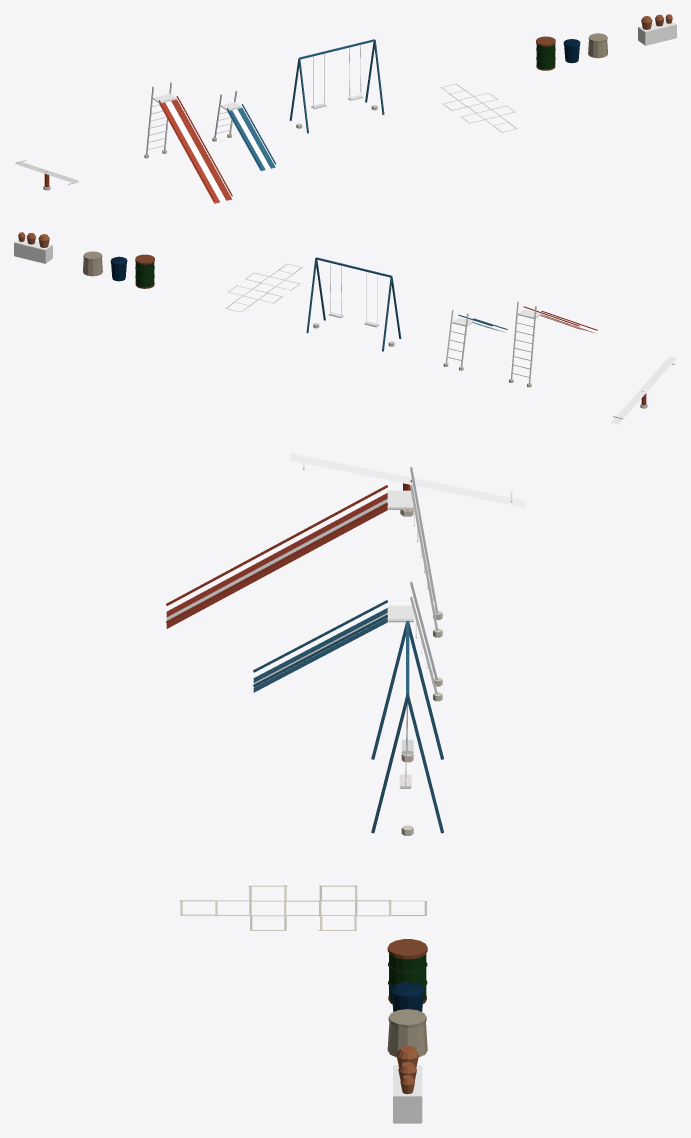
Rendered from school_props.glb.
3 renders of one model, top to bottom at view 1: azimuth 30°, elevation 25°; view 2: azimuth 150°, elevation 25°; view 3: azimuth 270°, elevation 25°, orthographic. The views are drawn at different scales.
Visible parts, largest first — view 1: sl_big_chute1, sl_big_chute2, pot_stand, sl_big_chute0, db_drum, sl_small_chute1, sl_small_chute2, sl_small_chute0, db_concrete; view 2: pot_stand, ss_plank, db_drum, db_concrete; view 3: ss_plank, sl_big_chute0, pot_stand, sl_big_chute2, db_drum, db_concrete.
Boxes of the visible parts, x1,y1,x2,y2 form: sl_big_chute1: (165,101,225,202); sl_big_chute2: (171,99,231,200); pot_stand: (638,20,676,45); sl_big_chute0: (159,102,219,203); db_drum: (536,44,555,69); sl_small_chute1: (232,109,270,169); sl_small_chute2: (237,108,275,168); sl_small_chute0: (227,110,265,170); db_concrete: (588,40,607,58); pot_stand: (14,238,52,263); ss_plank: (611,356,676,424); db_drum: (135,262,154,287); db_concrete: (83,258,102,276); ss_plank: (290,453,524,507); sl_big_chute0: (166,493,387,616); pot_stand: (393,1065,422,1123); sl_big_chute2: (166,505,387,628); db_drum: (389,954,426,1000); db_concrete: (387,1022,427,1057).
Bounding box in the file's own units: 21.77 × 2.49 × 5.36.
